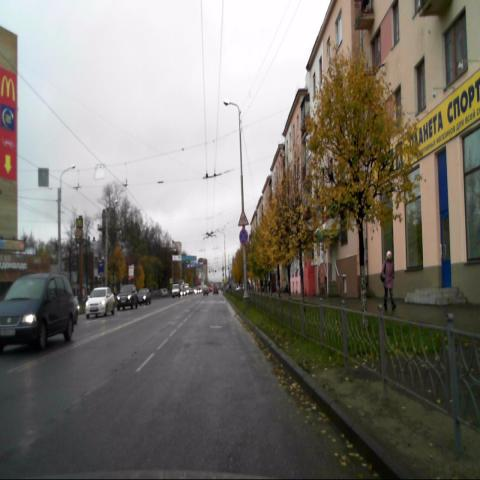1_23: (237, 208, 248, 226)
3_27: (239, 229, 248, 245)
